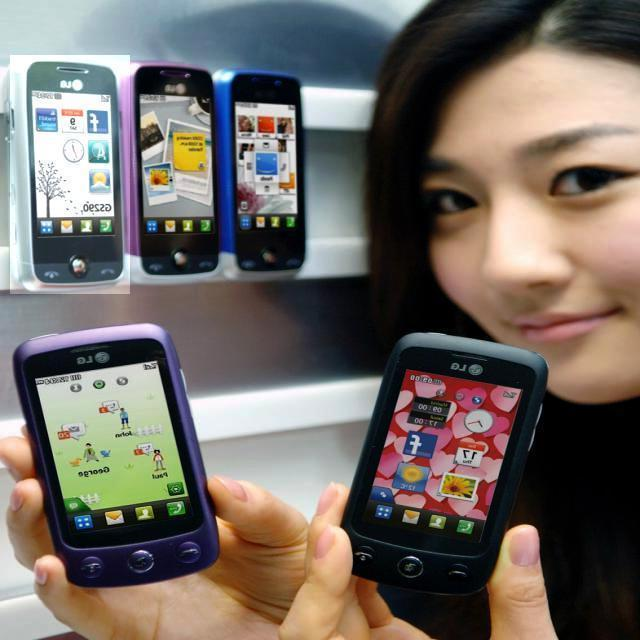mobile: (9, 55, 129, 294)
